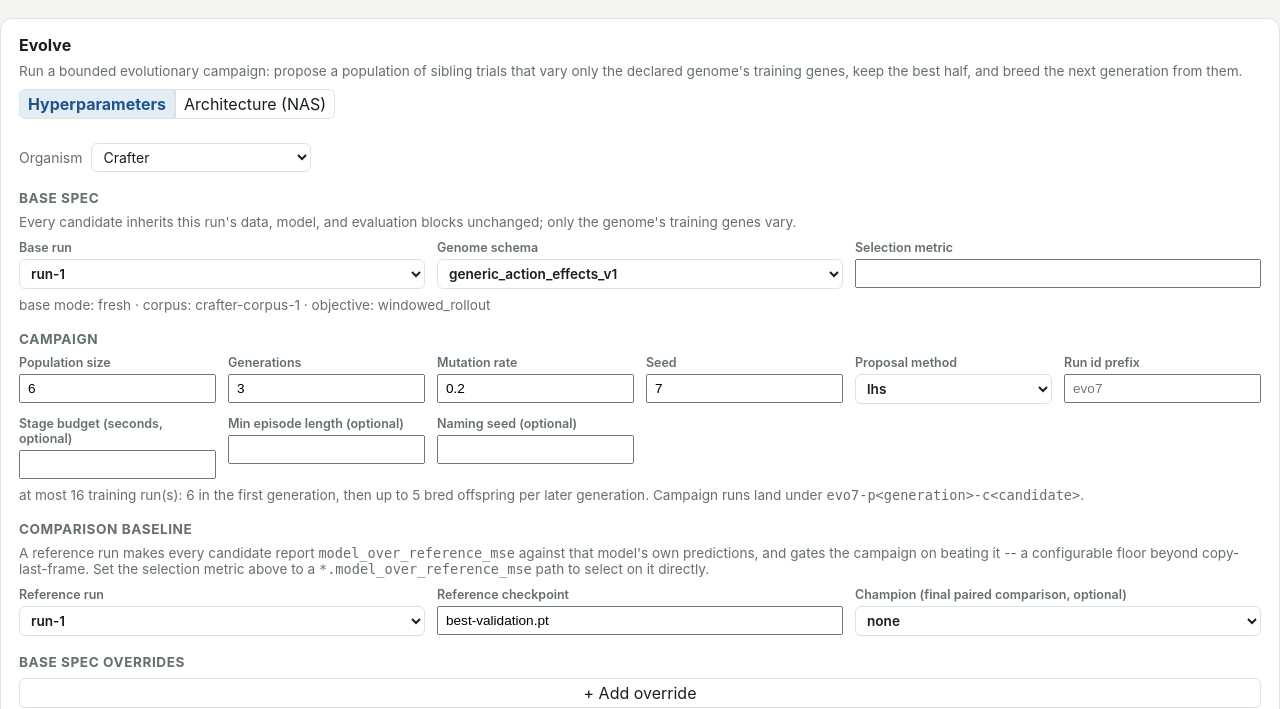
it: EvolvePanel › architecture (NAS) mode › launches through /api/jobs/search and opens the nested architecture board
Expected: the dropdown labelled "Base run" shows "run-1", [19,259,425,289]
Click the button "Architecture (NAS)": (255, 104) [175,89,335,119]
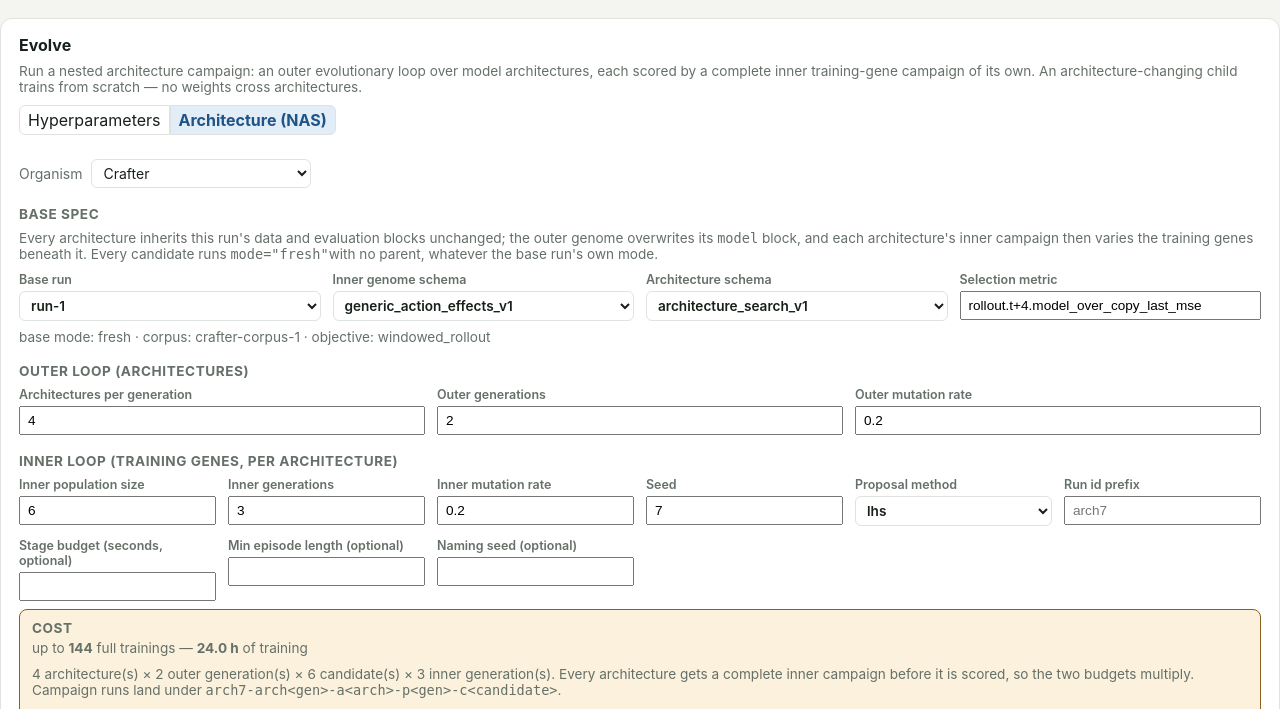
Expected: the dropdown labelled "Architecture schema" is shown, [646,291,948,321]
Replace the text in the number field labelled "Architectures per generation" with "2": (222, 420) [19,406,425,435]
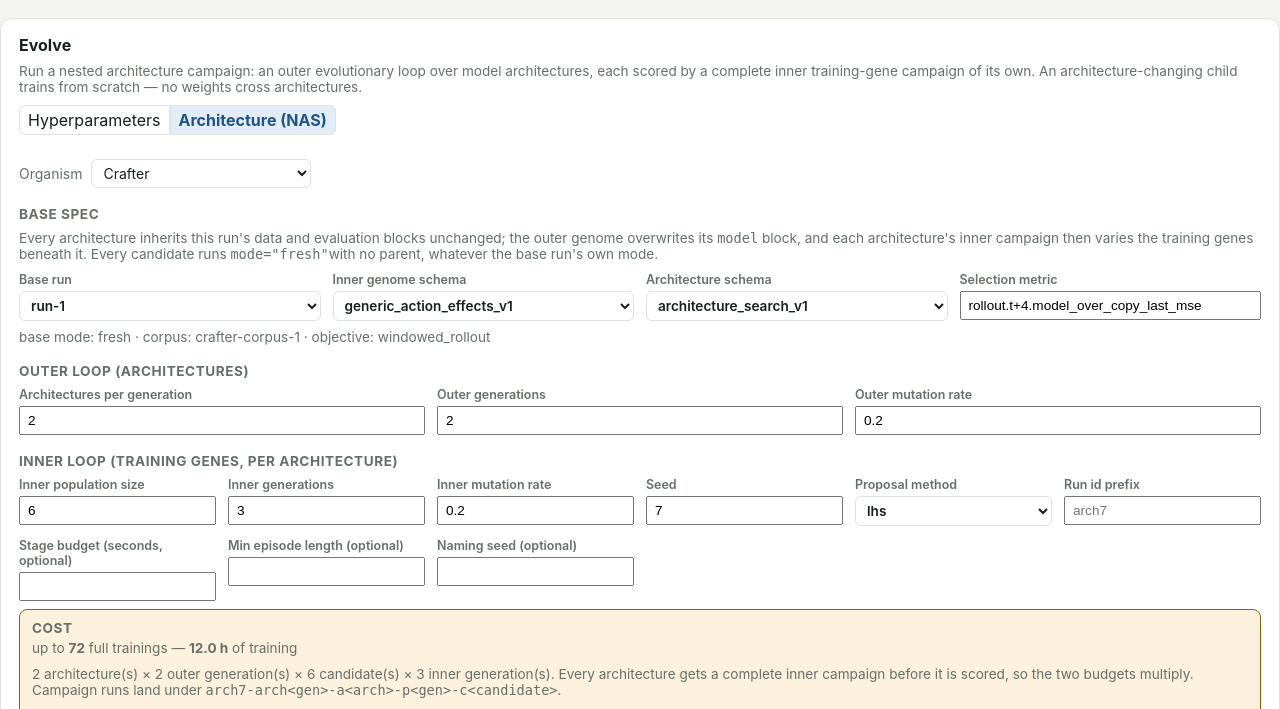
Replace the text in the number field labelled "Inner population size" with "3": (118, 510) [19,496,216,525]
(page scrolled)
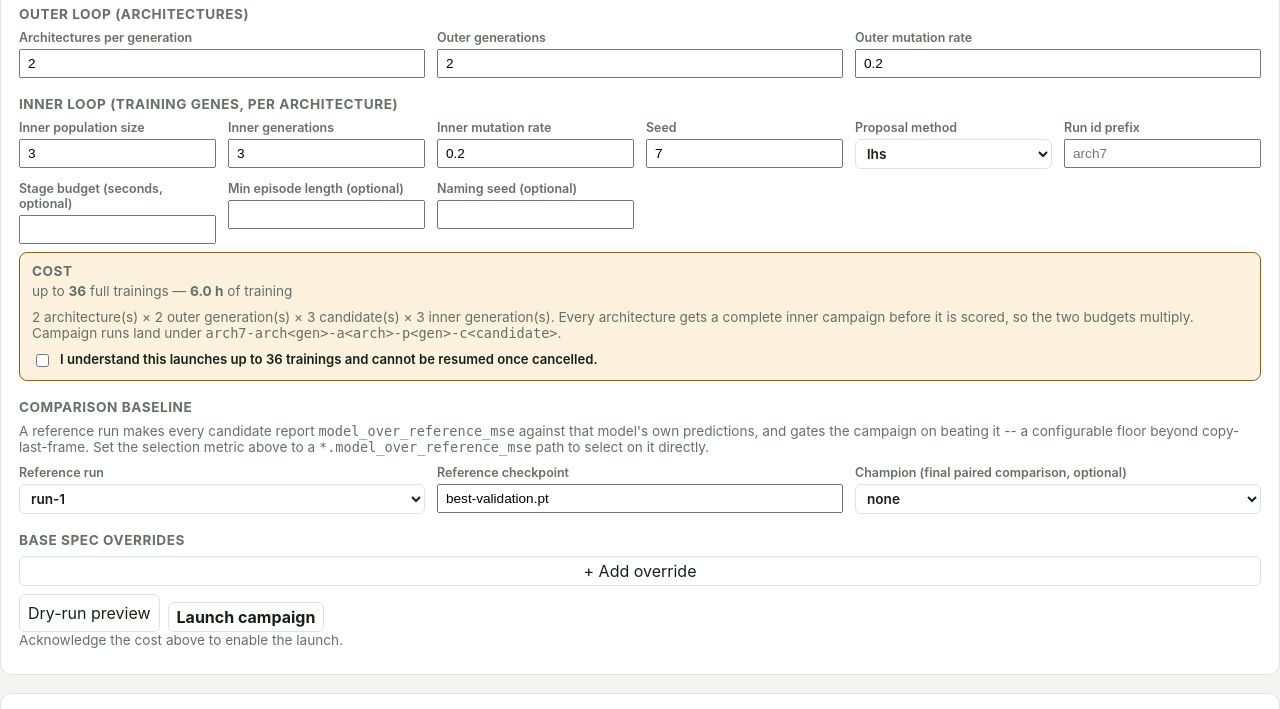
Click the checkbox named "Acknowledge campaign cost": (42, 360) [36,354,49,367]
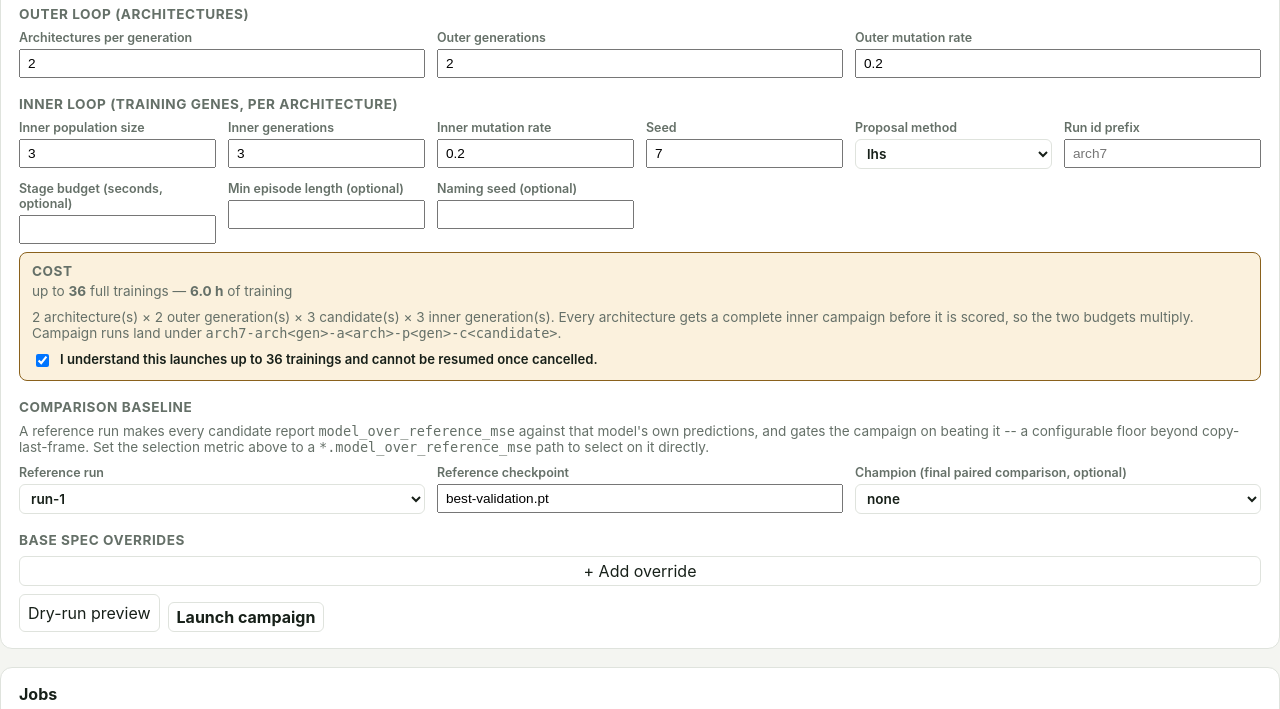
Click the button "Launch campaign": (246, 617) [168,602,324,632]
(page scrolled)
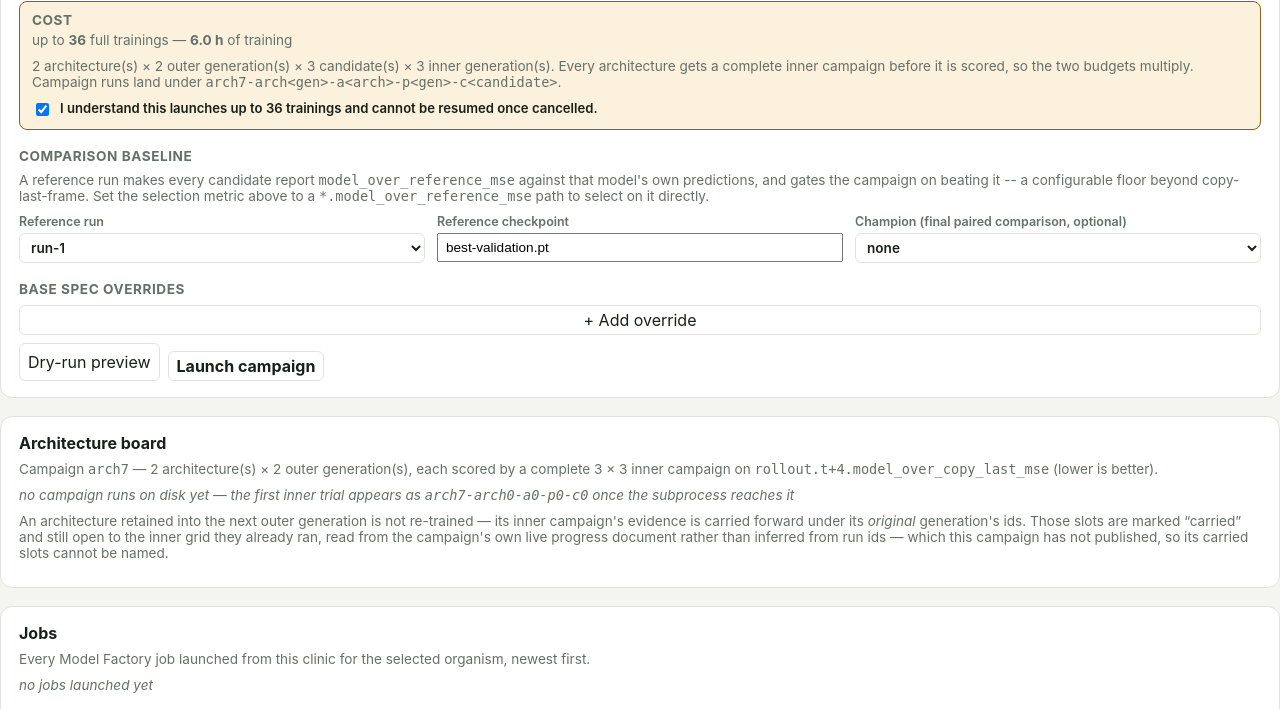
Expected: the heading "Architecture board" is shown, [19,433,166,453]
Expected: the element "Architecture board" shows "2 architecture(s) × 2 outer generation(s)", [0,416,1279,588]
Expected: the element "Architecture board" shows "3 × 3 inner campaign", [0,416,1279,588]
